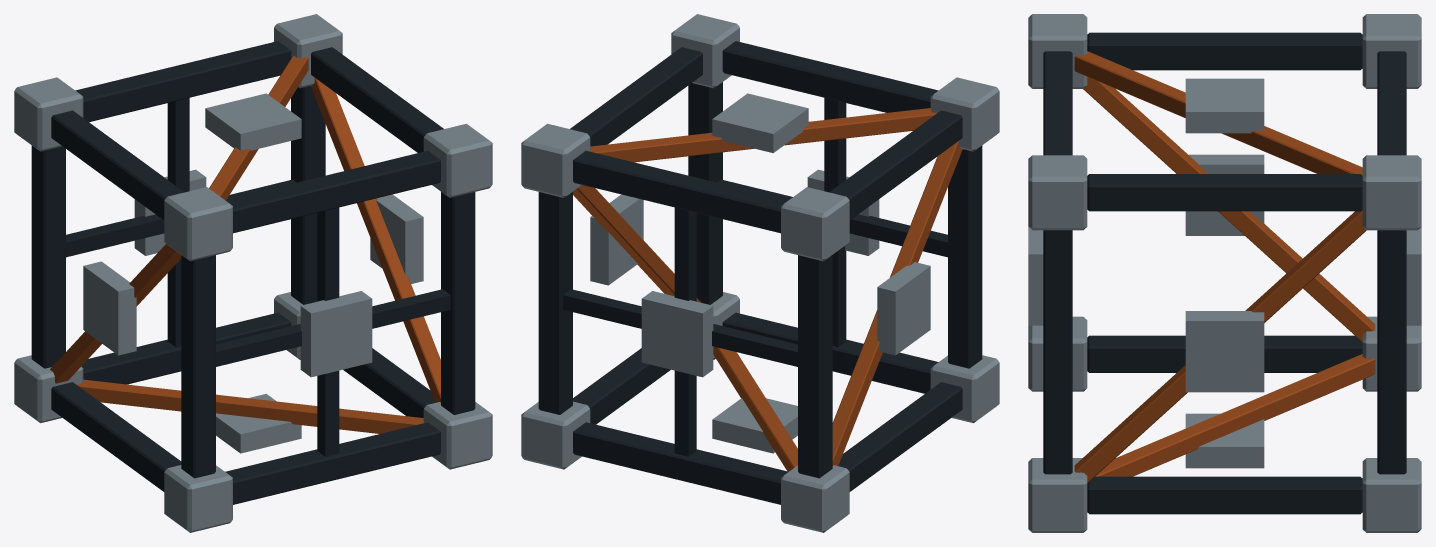
The picture shows the model from 3 angles, left to right: view 1: azimuth 30°, elevation 25°; view 2: azimuth 150°, elevation 25°; view 3: azimuth 270°, elevation 25°; orthographic projection. The views are drawn at different scales.
Visible parts, largest first — view 1: Y_BEAM_-1_1, Y_BEAM_-1_-1, Y_BEAM_1_1, X_BEAM_1_1, X_BEAM_1_-1, X_BEAM_-1_1, DIAGONAL_RIGHT, DIAGONAL_FRONT, MOUNT_PAD_PZ, Y_BEAM_1_-1, Z_BEAM_-1_1, Z_BEAM_-1_-1 (+25 smaller); view 2: Y_BEAM_-1_-1, Y_BEAM_1_-1, X_BEAM_1_-1, Y_BEAM_-1_1, X_BEAM_-1_-1, X_BEAM_1_1, DIAGONAL_LEFT, DIAGONAL_BACK, MOUNT_PAD_NZ, Z_BEAM_-1_1, Z_BEAM_-1_-1, Z_BEAM_1_1 (+25 smaller); view 3: Z_BEAM_1_-1, Z_BEAM_1_1, Z_BEAM_-1_1, Y_BEAM_1_-1, Y_BEAM_1_1, Z_BEAM_-1_-1, DIAGONAL_FRONT, DIAGONAL_LEFT, MOUNT_PAD_PX, DIAGONAL_RIGHT, DIAGONAL_BACK, NODE_PPN (+14 smaller).
Boxes of the visible parts, box(x1,y1,x2,y2) form: Y_BEAM_-1_1: box(181, 255, 215, 478); Y_BEAM_-1_-1: box(31, 145, 65, 368); Y_BEAM_1_1: box(441, 192, 475, 414); X_BEAM_1_1: box(225, 150, 440, 233); X_BEAM_1_-1: box(75, 41, 291, 122); X_BEAM_-1_1: box(225, 422, 440, 504); DIAGONAL_RIGHT: box(311, 78, 440, 402); DIAGONAL_FRONT: box(77, 379, 424, 433); MOUNT_PAD_PZ: box(300, 291, 372, 377); Y_BEAM_1_-1: box(291, 86, 325, 304); Z_BEAM_-1_1: box(51, 110, 184, 220); Z_BEAM_-1_-1: box(51, 382, 181, 491); Y_BEAM_-1_-1: box(798, 255, 832, 478); Y_BEAM_1_-1: box(538, 192, 572, 414); X_BEAM_1_-1: box(573, 150, 788, 233); Y_BEAM_-1_1: box(948, 145, 982, 368); X_BEAM_-1_-1: box(573, 422, 788, 504); X_BEAM_1_1: box(722, 41, 938, 112); DIAGONAL_LEFT: box(832, 141, 962, 465); DIAGONAL_BACK: box(589, 108, 936, 162); MOUNT_PAD_NZ: box(641, 291, 713, 377); Z_BEAM_-1_1: box(829, 110, 962, 220); Z_BEAM_-1_-1: box(838, 382, 962, 491); Z_BEAM_1_1: box(570, 47, 702, 146); Z_BEAM_1_-1: box(1087, 476, 1362, 514); Z_BEAM_1_1: box(1087, 174, 1362, 211); Z_BEAM_-1_1: box(1087, 32, 1362, 70); Y_BEAM_1_-1: box(1377, 230, 1406, 474); Y_BEAM_1_1: box(1043, 230, 1072, 474); Z_BEAM_-1_-1: box(1087, 335, 1362, 372); DIAGONAL_FRONT: box(1095, 354, 1375, 476); DIAGONAL_LEFT: box(1083, 77, 1375, 341); MOUNT_PAD_PX: box(1185, 311, 1264, 392); DIAGONAL_RIGHT: box(1074, 210, 1366, 483); DIAGONAL_BACK: box(1074, 51, 1362, 175); NODE_PPN: box(1362, 155, 1421, 230).
Bounding box in the file's own units: 1 × 1 × 1.
